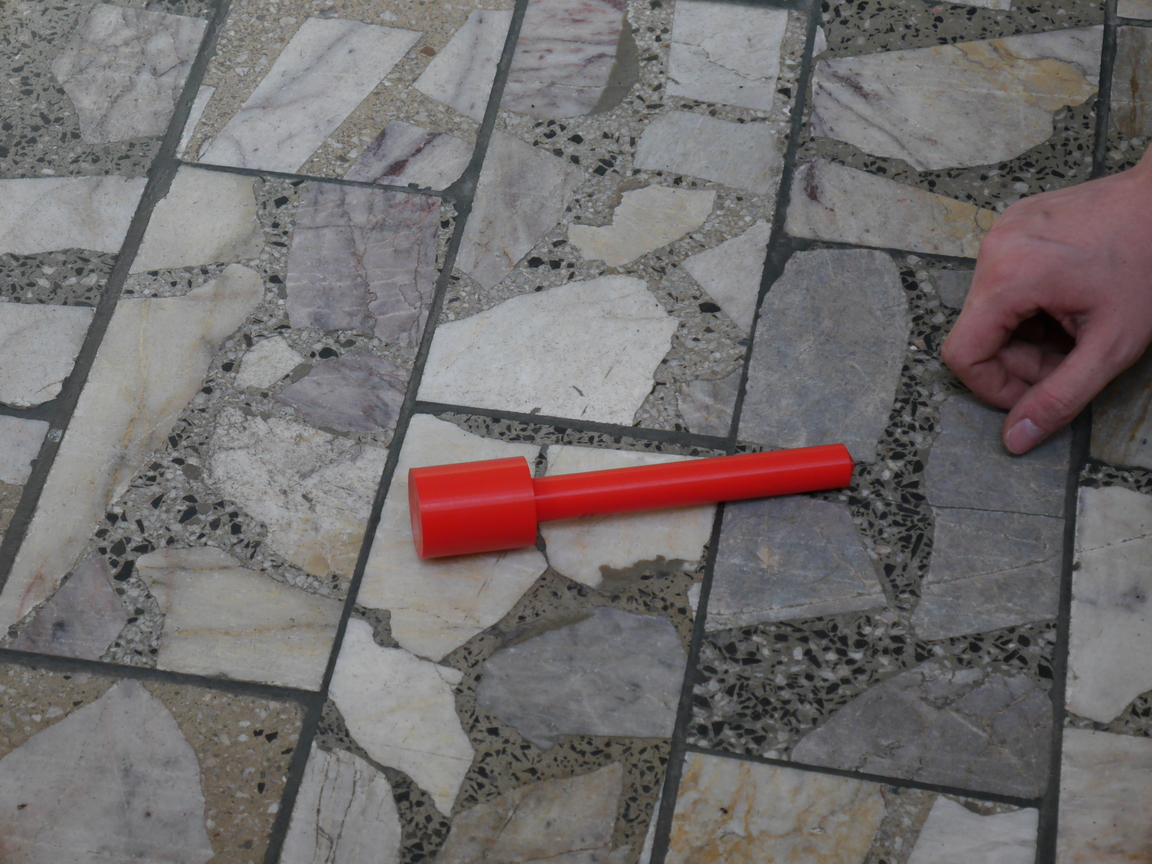cargo_g: (409, 441, 855, 560)
